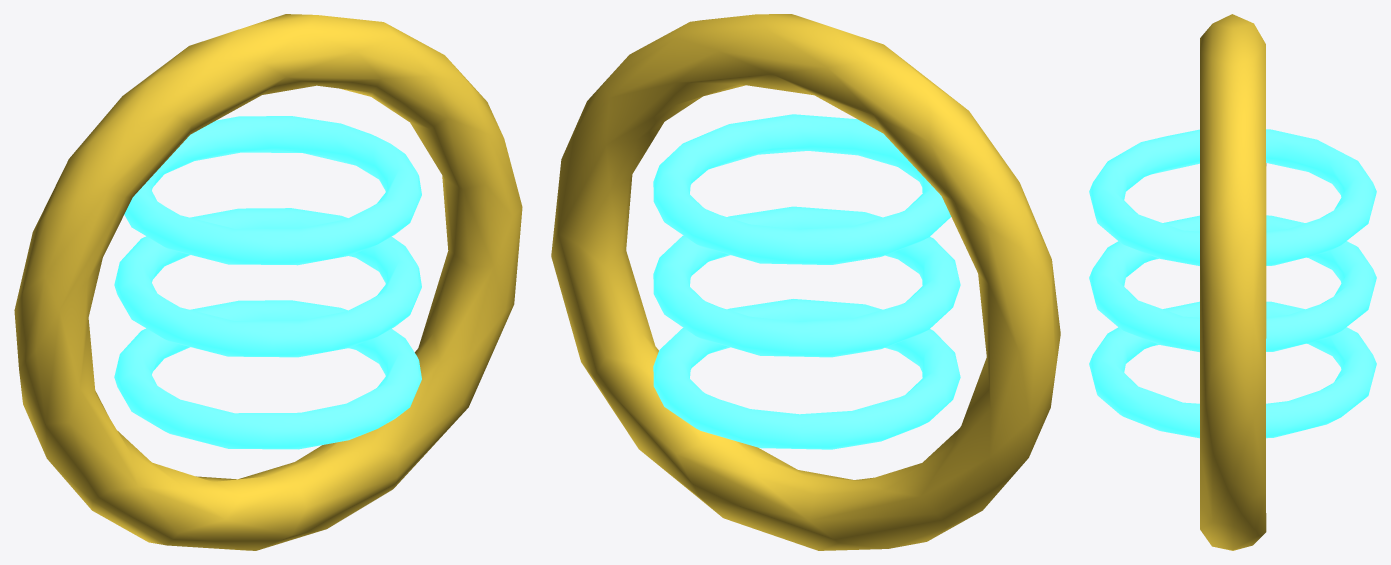
File: Pickup_pulse_LOD1.glb
3 views of the same model, side by side, from view 1: azimuth 30°, elevation 25°; view 2: azimuth 150°, elevation 25°; view 3: azimuth 270°, elevation 25° (orthographic). The views are drawn at different scales.
Parts seen in each view (by area): view 1: Pickup ring.002, Wave.002, Wave.001, Wave; view 2: Pickup ring.002, Wave.002, Wave.001, Wave; view 3: Pickup ring.002, Wave.002, Wave, Wave.001.
Boxes of the visible parts, box(x1,y1,x2,y2) form: Pickup ring.002: box(14, 14, 522, 550); Wave.002: box(124, 116, 421, 265); Wave.001: box(114, 208, 421, 357); Wave: box(114, 300, 421, 449); Pickup ring.002: box(551, 14, 1060, 550); Wave.002: box(653, 114, 951, 264); Wave.001: box(653, 206, 960, 357); Wave: box(653, 299, 960, 449); Pickup ring.002: box(1200, 14, 1266, 550); Wave.002: box(1089, 129, 1376, 265); Wave: box(1089, 301, 1376, 438); Wave.001: box(1089, 215, 1376, 352).
Bounding box in the file's own units: 0.849 × 0.8505 × 0.4546.
